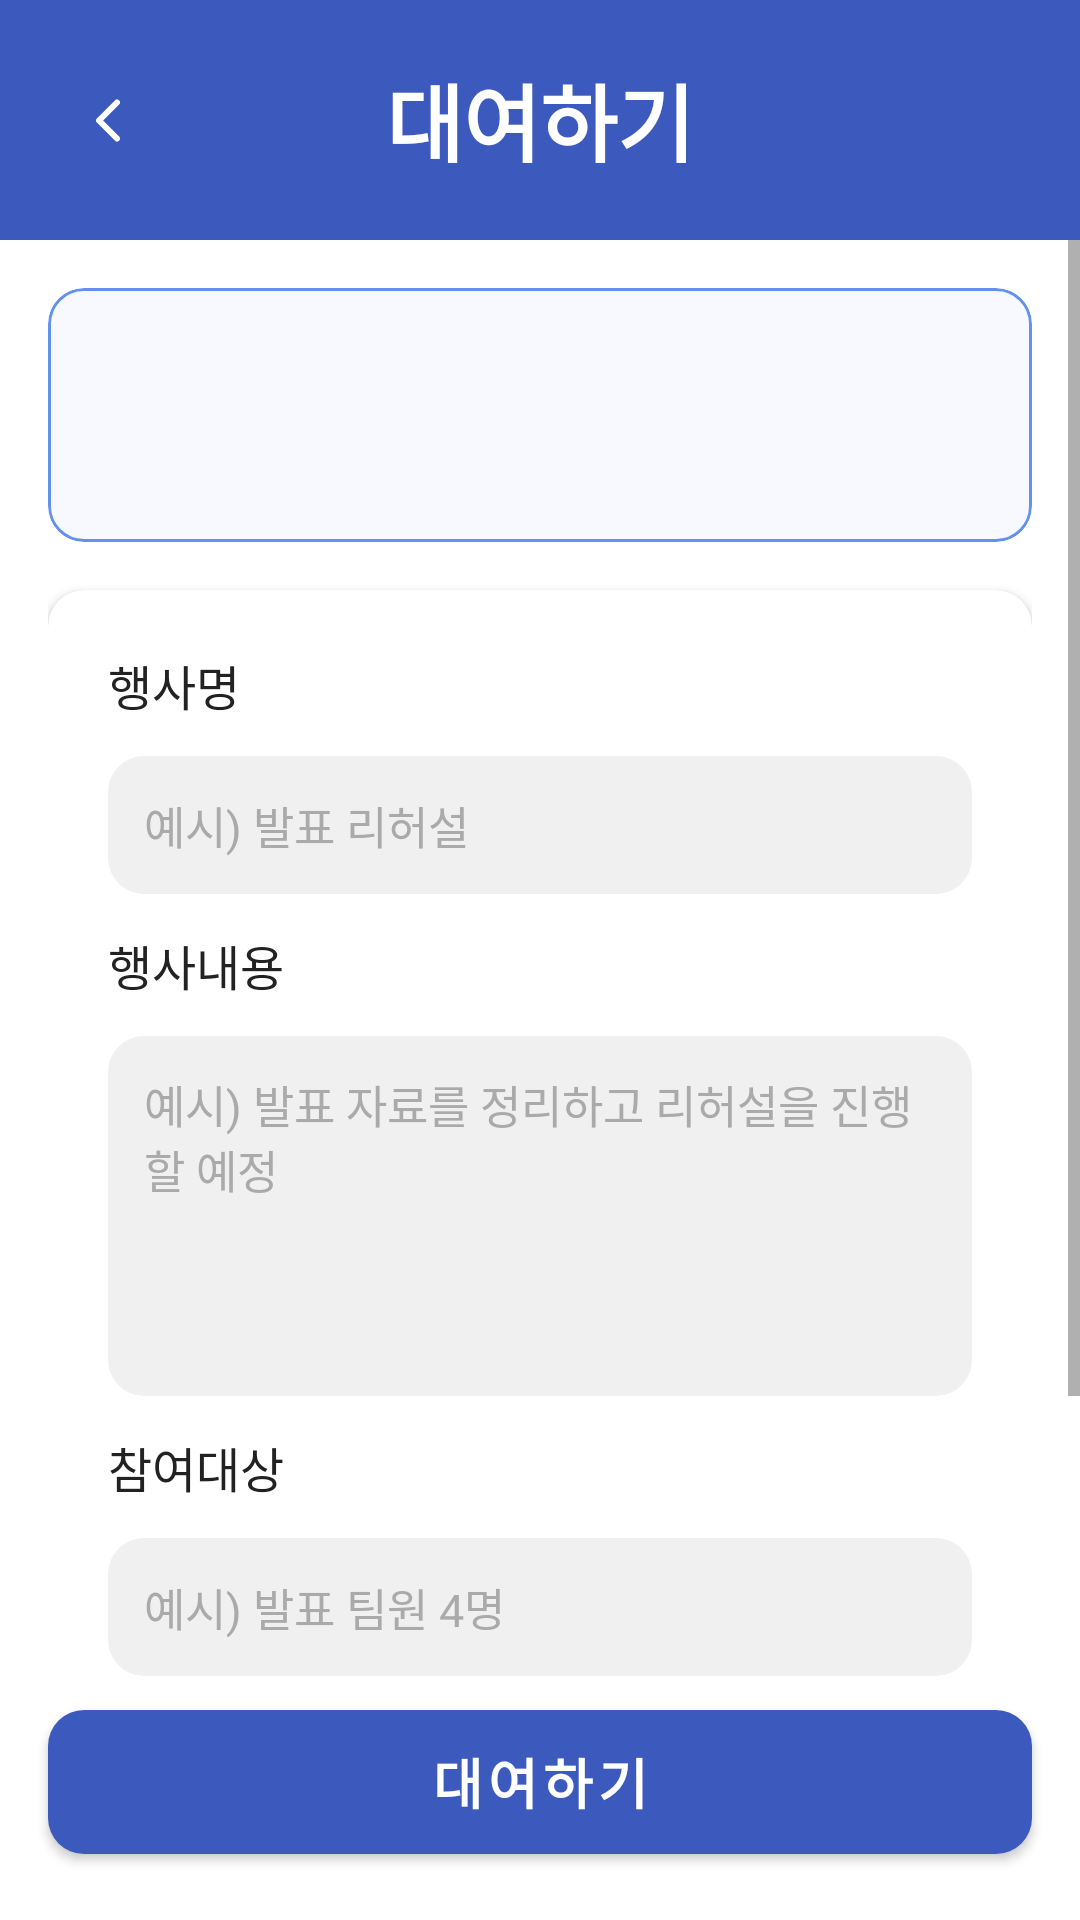

Named icons in this screenshot (1080px x 1920px) and their centers, (x,y):
뒤로가기: (108,120)
